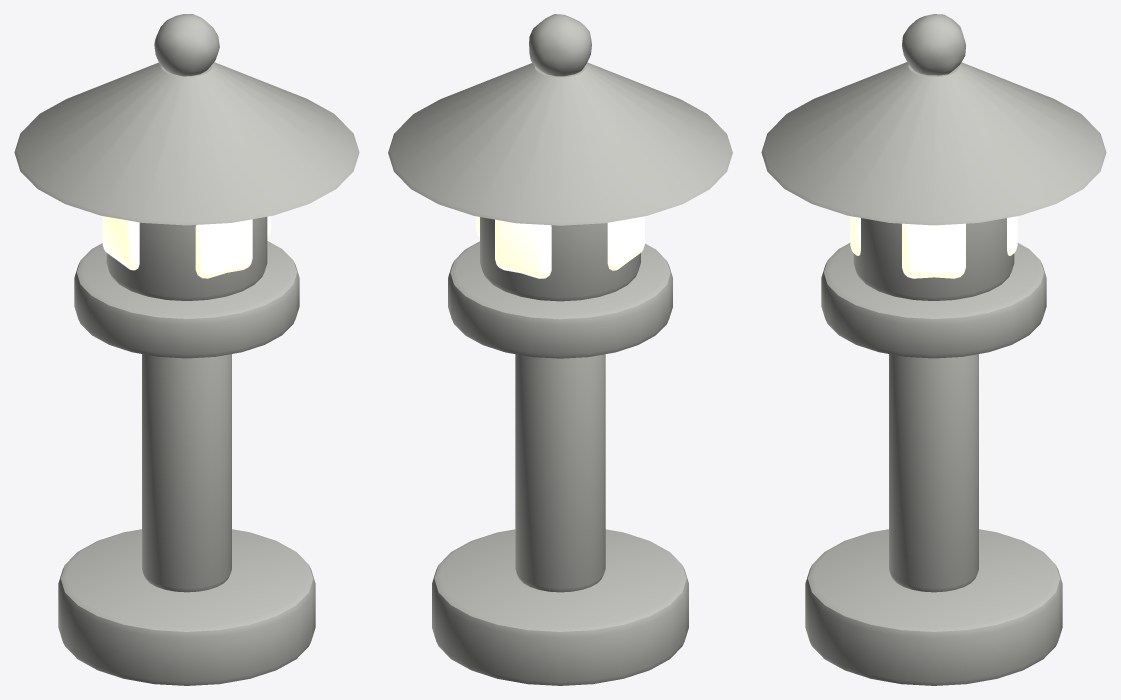
Rendered from ishidoro.glb.
3 renders of one model, left to right at view 1: azimuth 30°, elevation 25°; view 2: azimuth 150°, elevation 25°; view 3: azimuth 270°, elevation 25°, orthographic.
Parts seen in each view (by area): view 1: ishidoro; view 2: ishidoro; view 3: ishidoro.
Boxes of the visible parts, box(x1,y1,x2,y2) form: ishidoro: box(14, 14, 359, 685); ishidoro: box(388, 14, 732, 685); ishidoro: box(761, 14, 1106, 685).
Size of the model in its own units: 1.07 by 2.12 by 1.07.
